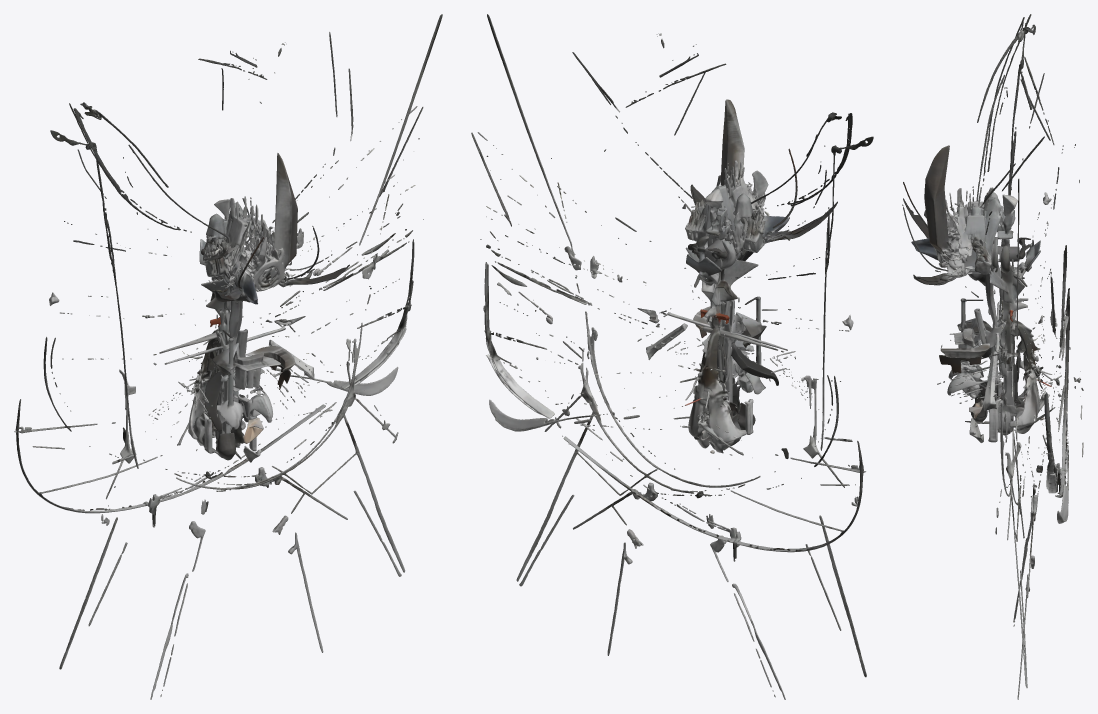
Rendered from sample_2026-09-16T164117.285.glb.
The picture shows the model from 3 angles, left to right: view 1: azimuth 30°, elevation 25°; view 2: azimuth 150°, elevation 25°; view 3: azimuth 270°, elevation 25°; orthographic projection. The views are drawn at different scales.
Parts seen in each view (by area): view 1: world; view 2: world; view 3: world.
Part boxes in pixels (<box>): world: <box>14,14,442,699</box>; world: <box>471,14,873,699</box>; world: <box>902,14,1083,699</box>.
Size of the model in its own units: 0.6705 by 0.9997 by 0.2763.
1 material, 1 textured.
